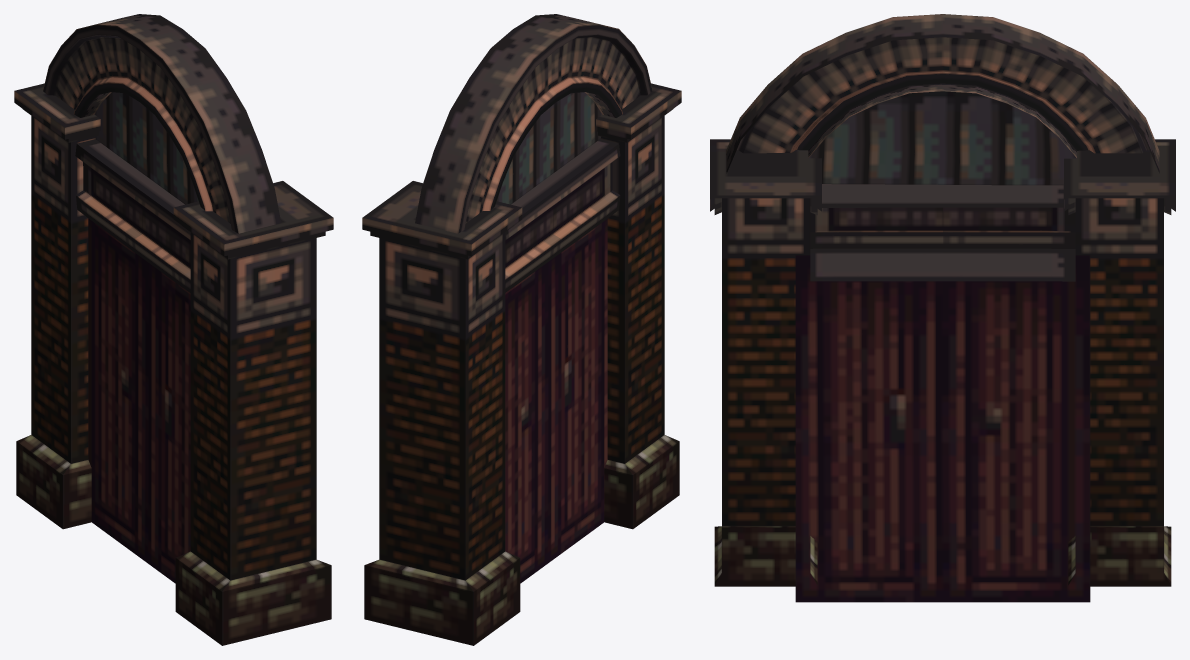
The model's file is EnvBdgMD_Factory_B_Outdoor_Gate_B.FBX.
3 views of the same model, side by side, from view 1: azimuth 30°, elevation 25°; view 2: azimuth 150°, elevation 25°; view 3: azimuth 270°, elevation 25° (orthographic). The views are drawn at different scales.
Visible parts, largest first — view 1: EnvBdgMD_Factory_B_Outdoor_Gate_B; view 2: EnvBdgMD_Factory_B_Outdoor_Gate_B; view 3: EnvBdgMD_Factory_B_Outdoor_Gate_B.
Part boxes in pixels (x1,y1,x2,y2): EnvBdgMD_Factory_B_Outdoor_Gate_B: (14, 14, 333, 645); EnvBdgMD_Factory_B_Outdoor_Gate_B: (362, 14, 681, 645); EnvBdgMD_Factory_B_Outdoor_Gate_B: (710, 14, 1175, 602).
Bounding box in the file's own units: 95 × 437 × 316.
